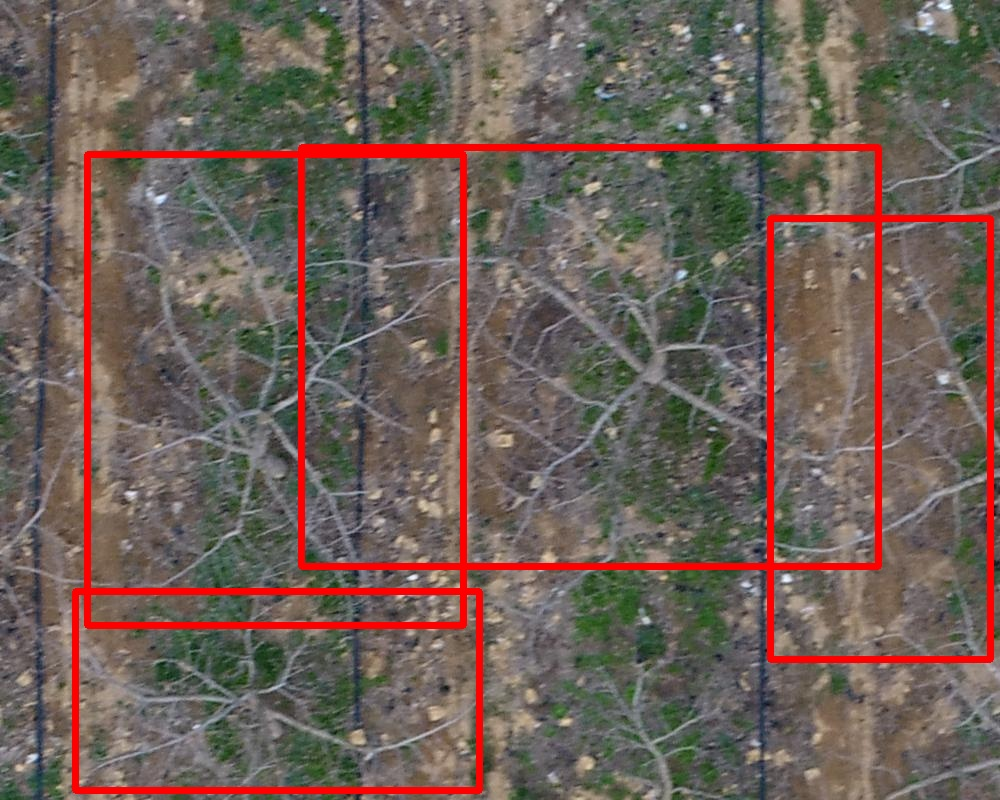apple: (301, 147, 878, 566), (87, 154, 463, 625), (770, 218, 990, 659), (75, 591, 479, 790)
